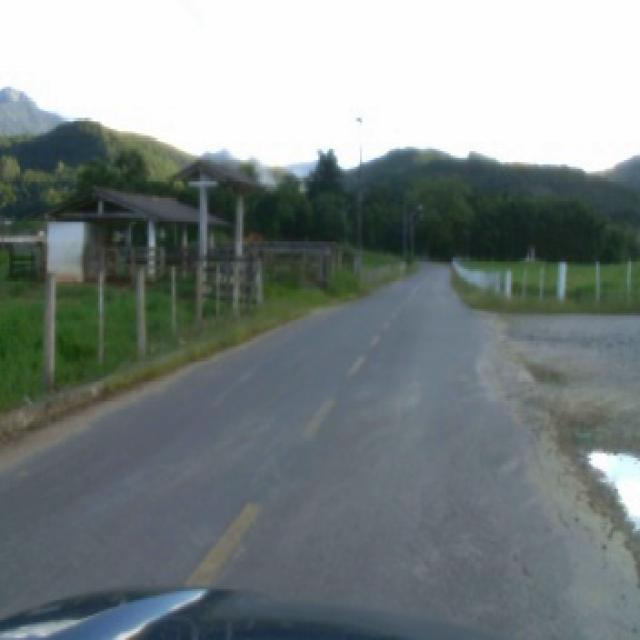Poth-hole: (588, 449, 636, 529)
